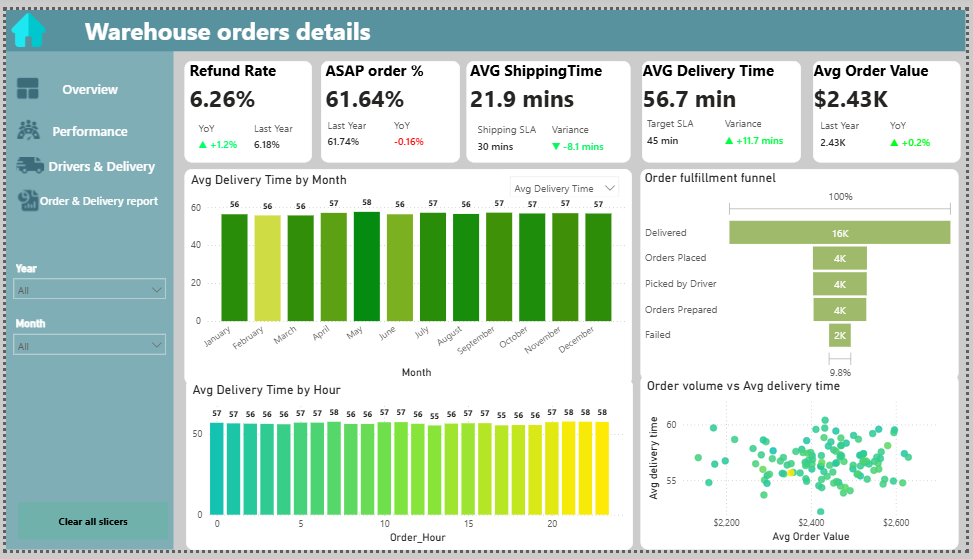

What the dashboard file says about the page in this screenshot:
{"tool":"powerbi","page":{"name":"Performance","canvas":[1280,720],"ordinal":2},"visuals":[{"type":"cardVisual","fields":{"Data":["Area Metric Table.Avg Delivery Time Display"]},"box":[848.3,68.3,211.7,135],"z":0},{"type":"cardVisual","fields":{"Data":["Area Metric Table.Avg Shipping Time Display"]},"box":[613.3,68.3,218.3,135],"z":1000},{"type":"cardVisual","fields":{"Data":["Area Metric Table.Avg Order Value"]},"box":[1075,68.3,196.7,135],"z":2000},{"type":"cardVisual","fields":{"Data":["Area Metric Table.ASAP order %"]},"box":[420,68.3,185,135],"z":3000},{"type":"cardVisual","fields":{"Data":["Area Metric Table.Refund Rate"]},"box":[238.3,68.3,170,135],"z":4000},{"type":"columnChart","fields":{"Category":["DateTable.Date.Variation.Date Hierarchy.Month"],"Y":["Area Metric Table.Selected Performance Metric"]},"box":[237.6,212.9,596.8,288.2],"z":5000},{"type":"slicer","fields":{"Values":["Performance Metric Table.Metric"]},"box":[662.4,212.9,165.6,36.6],"z":6000},{"type":"columnChart","fields":{"Category":["Orders.Order_Hour"],"Y":["Area Metric Table.Selected Performance Metric"]},"box":[239.6,492.2,595.9,228.3],"z":7000},{"type":"scatterChart","title":"Order volume vs Avg delivery time","fields":{"X":["Customers.Avg Order Value"],"Y":["Customers.Avg delivery time"],"Category":["Orders.Shop_Name"]},"box":[846.9,486.8,424.2,233.2],"z":7500},{"type":"funnel","title":"Order fulfillment funnel","fields":{"Category":["Fulfillment Funnel.Stage"],"Y":["Customers.Funnel Value"]},"box":[846.9,212.1,424.2,281.7],"z":8000},{"type":"shape","box":[0,53.4,223.5,665.5],"z":10000},{"type":"actionButton","box":[10,84.3,204.3,40],"z":11000},{"type":"actionButton","box":[10,140,204.3,40],"z":12000},{"type":"slicer","fields":{"Values":["DateTable.Date.Variation.Date Hierarchy.Year"]},"box":[0,330,223.3,56.7],"z":13000},{"type":"slicer","fields":{"Values":["DateTable.Date.Variation.Date Hierarchy.Month"]},"box":[0,403.3,223.3,56.7],"z":14000},{"type":"actionButton","box":[15,655,200,50],"z":15000},{"type":"shape","box":[0,0,1279.2,55.1],"z":16000},{"type":"image","box":[4.5,4.5,52.3,45.5],"z":17000},{"type":"actionButton","box":[10,191.4,204.3,40],"z":18000},{"type":"actionButton","box":[10.6,234.6,203.8,40.4],"z":19000},{"type":"textbox","box":[100.4,0,424.2,68],"z":20000}]}

Visuals, with their boxes in screenshot pixels (x1, y1, x2, y2), scaled from the page's 1280x720 canvas onto the 973x559 screenshot:
cardVisual - Area Metric Table.Avg Delivery Time Display: BBox(645, 53, 806, 158)
cardVisual - Area Metric Table.Avg Shipping Time Display: BBox(466, 53, 632, 158)
cardVisual - Area Metric Table.Avg Order Value: BBox(817, 53, 967, 158)
cardVisual - Area Metric Table.ASAP order %: BBox(319, 53, 460, 158)
cardVisual - Area Metric Table.Refund Rate: BBox(181, 53, 310, 158)
columnChart - DateTable.Date.Variation.Date Hierarchy.Month x Area Metric Table.Selected Performance Metric: BBox(181, 165, 634, 389)
slicer - Performance Metric Table.Metric: BBox(504, 165, 629, 194)
columnChart - Orders.Order_Hour x Area Metric Table.Selected Performance Metric: BBox(182, 382, 635, 558)
"Order volume vs Avg delivery time" scatterChart: BBox(644, 378, 966, 558)
"Order fulfillment funnel" funnel: BBox(644, 165, 966, 383)
shape: BBox(0, 41, 170, 558)
actionButton: BBox(8, 65, 163, 97)
actionButton: BBox(8, 109, 163, 140)
slicer - DateTable.Date.Variation.Date Hierarchy.Year: BBox(0, 256, 170, 300)
slicer - DateTable.Date.Variation.Date Hierarchy.Month: BBox(0, 313, 170, 357)
actionButton: BBox(11, 509, 163, 547)
shape: BBox(0, 0, 972, 43)
image: BBox(3, 3, 43, 39)
actionButton: BBox(8, 149, 163, 180)
actionButton: BBox(8, 182, 163, 214)
textbox: BBox(76, 0, 399, 53)
